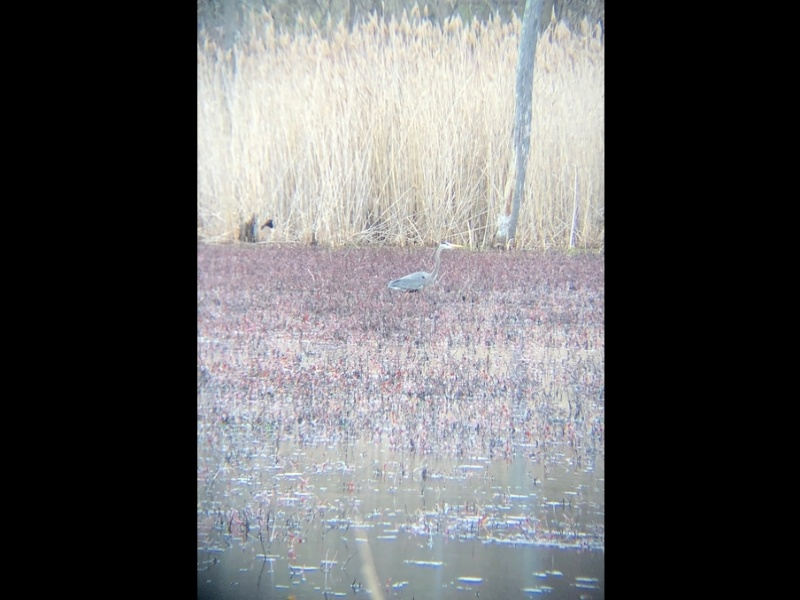heron: (388, 240, 461, 302)
